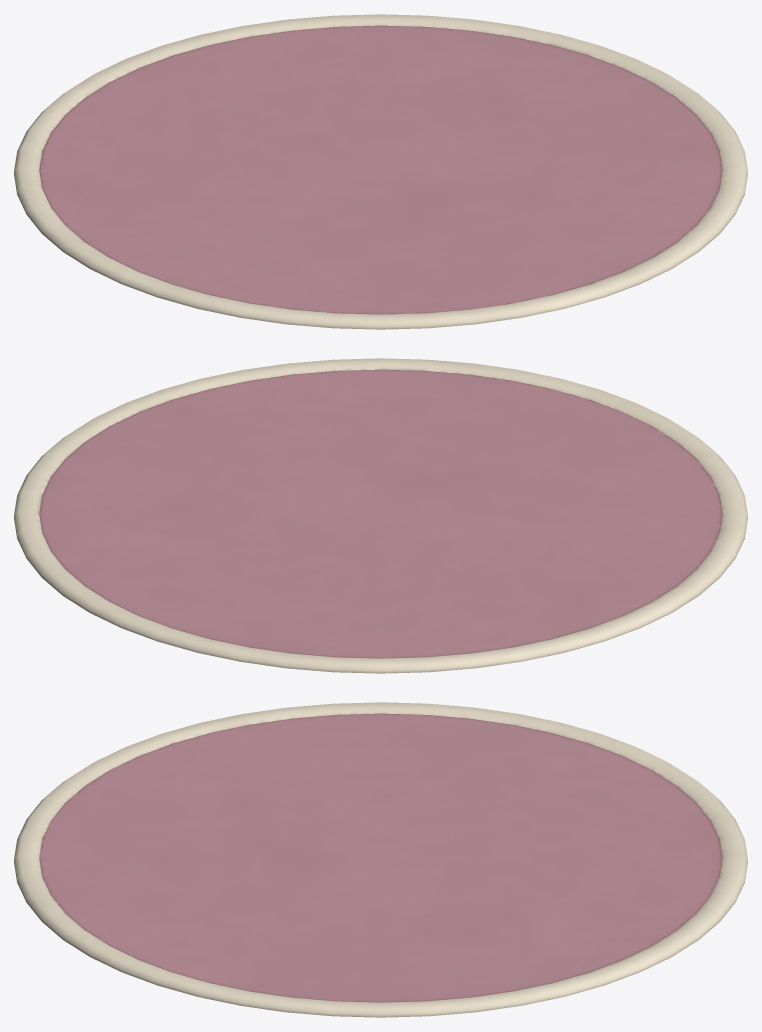
The model's file is rug-round.glb.
3 renders of one model, top to bottom at view 1: azimuth 30°, elevation 25°; view 2: azimuth 150°, elevation 25°; view 3: azimuth 270°, elevation 25°, orthographic.
Visible parts, largest first — view 1: rug-round; view 2: rug-round; view 3: rug-round.
Boxes of the visible parts, left/top/right/bottom form: rug-round: left=14, top=14, right=747, bottom=329; rug-round: left=14, top=358, right=747, bottom=673; rug-round: left=14, top=702, right=747, bottom=1017.
Size of the model in its own units: 1.8 by 0.02 by 1.8.
Materials: 1 (1 with a texture image).
